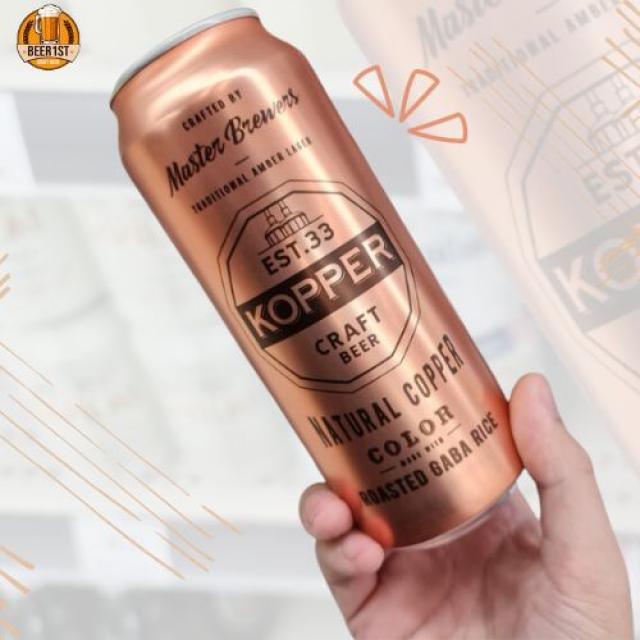can: (108, 4, 525, 553)
